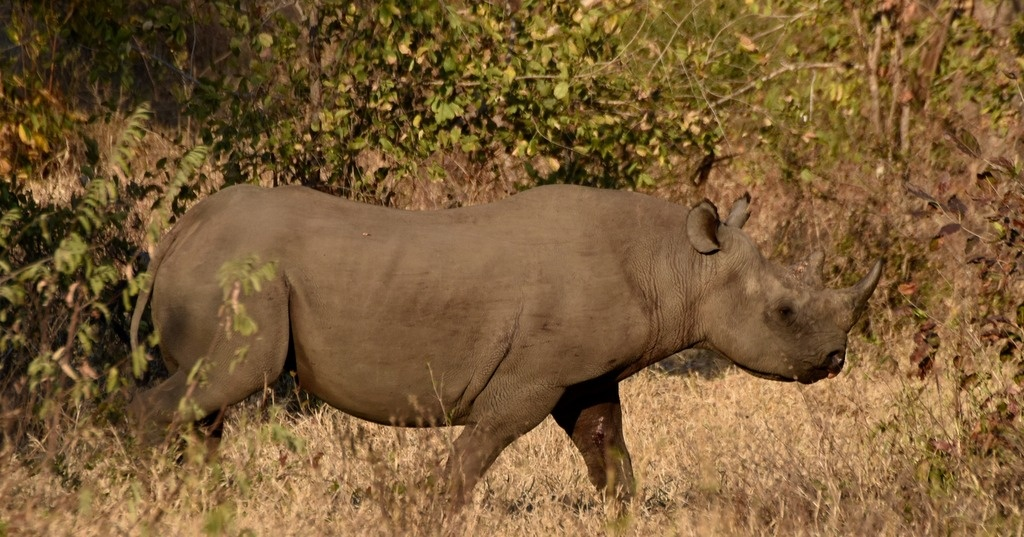rhino: (115, 184, 883, 502)
